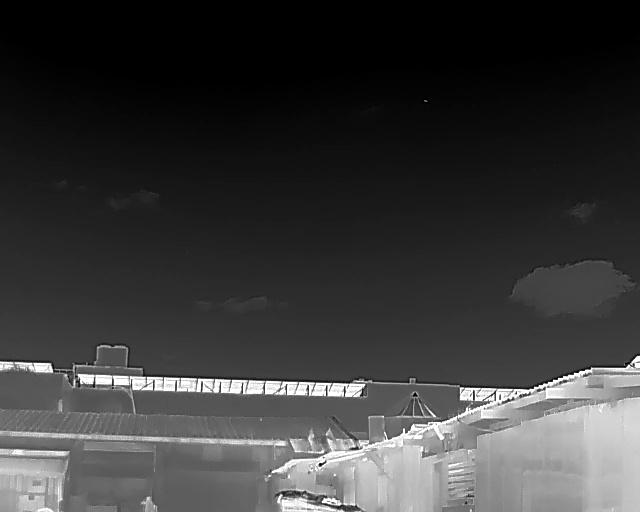fpv-drone: (423, 99, 427, 102)
